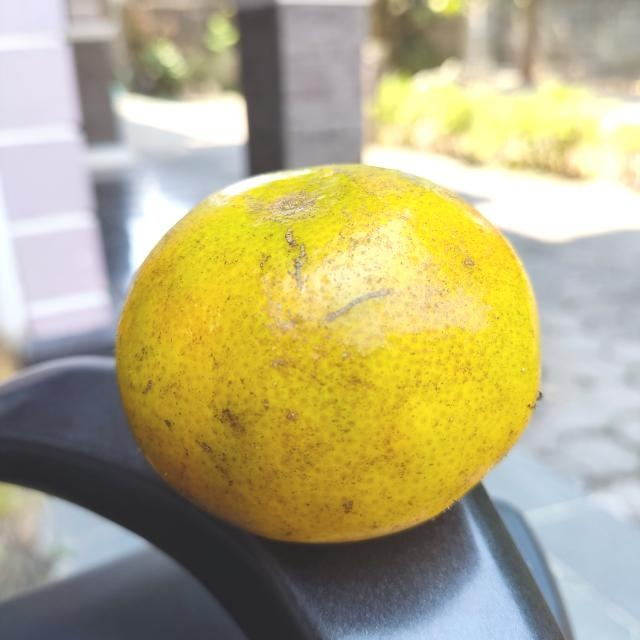agrume: (114, 160, 544, 544)
